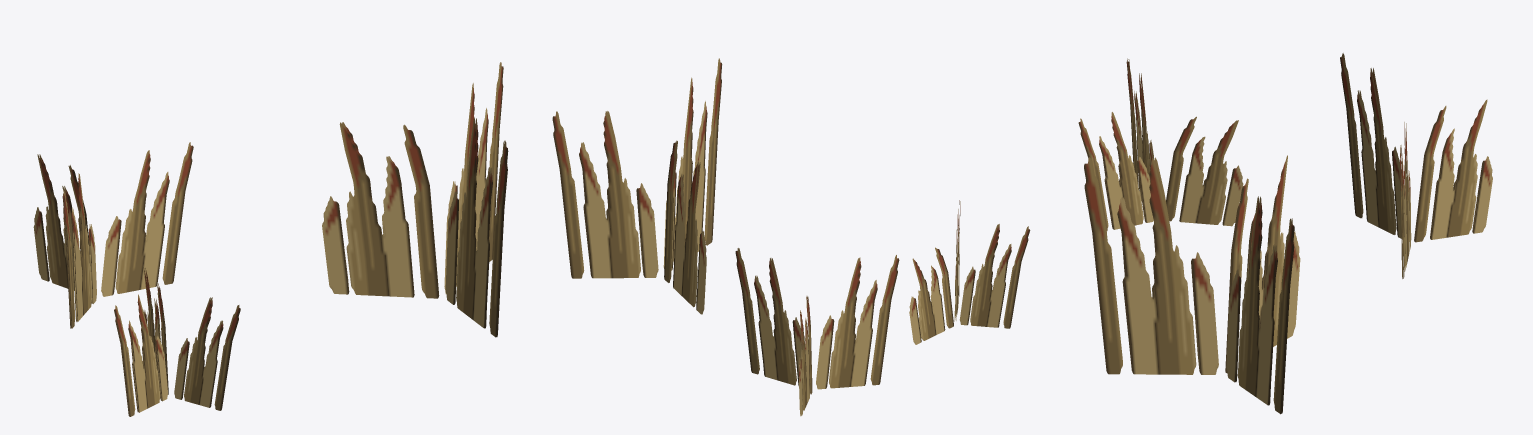
File: SM_VG06_GrassSparse.fbx
The picture shows the model from 3 angles, left to right: view 1: azimuth 30°, elevation 25°; view 2: azimuth 150°, elevation 25°; view 3: azimuth 270°, elevation 25°; orthographic projection. The views are drawn at different scales.
Parts seen in each view (by area): view 1: VG06_Grass; view 2: VG06_Grass; view 3: VG06_Grass.
Part boxes in pixels (box(x1,y1,x2,y2)): VG06_Grass: box(33, 62, 508, 416); VG06_Grass: box(552, 58, 1030, 416); VG06_Grass: box(1078, 53, 1492, 414).
Size of the model in its own units: 0.6386 by 0.32 by 0.4836.
